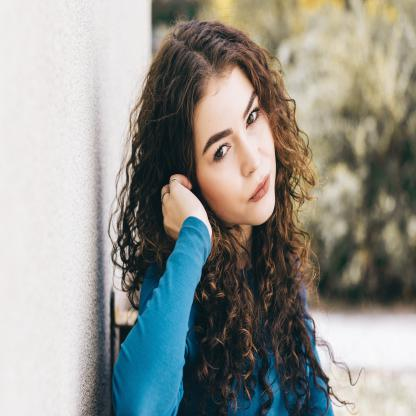Eye: (209, 138, 233, 166), (244, 106, 260, 133)
Mouth: (247, 172, 272, 204)
Nose: (236, 134, 262, 178)
